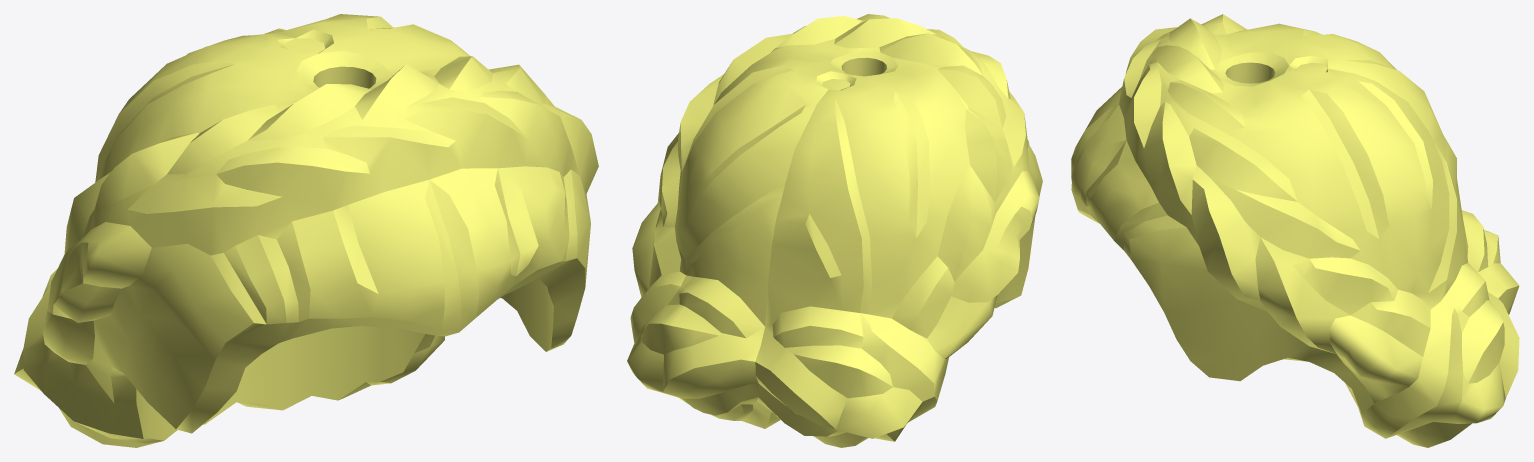
File: HairSideBraids.glb
3 views of the same model, side by side, from view 1: azimuth 30°, elevation 25°; view 2: azimuth 150°, elevation 25°; view 3: azimuth 270°, elevation 25° (orthographic). The views are drawn at different scales.
Visible parts, largest first — view 1: e:/codex/.cache/ldraw/ldraw/parts/64807.dat; view 2: e:/codex/.cache/ldraw/ldraw/parts/64807.dat; view 3: e:/codex/.cache/ldraw/ldraw/parts/64807.dat.
Boxes of the visible parts, x1,y1,x2,y2 form: e:/codex/.cache/ldraw/ldraw/parts/64807.dat: (14,14,598,447); e:/codex/.cache/ldraw/ldraw/parts/64807.dat: (627,14,1042,447); e:/codex/.cache/ldraw/ldraw/parts/64807.dat: (1071,14,1519,447).
Size of the model in its own units: 0.0146 by 0.0126 by 0.0143.
